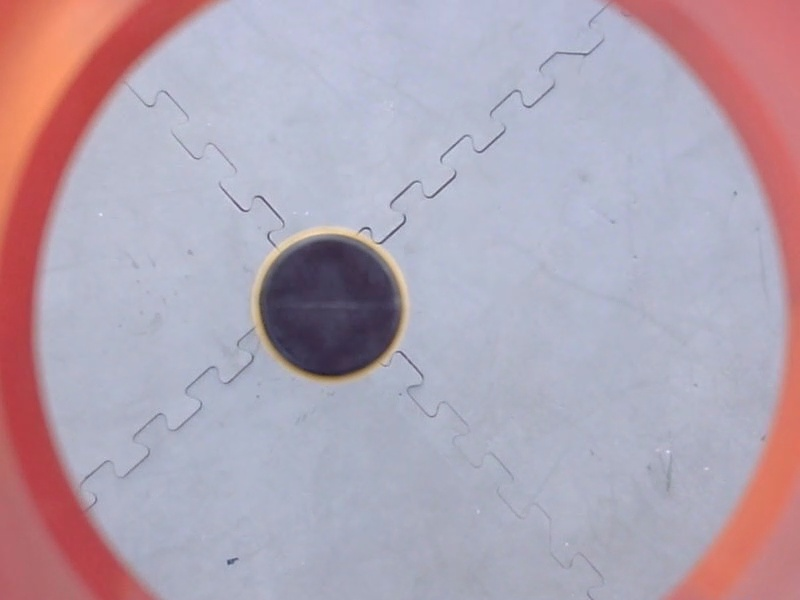tip: (246, 223, 417, 389)
